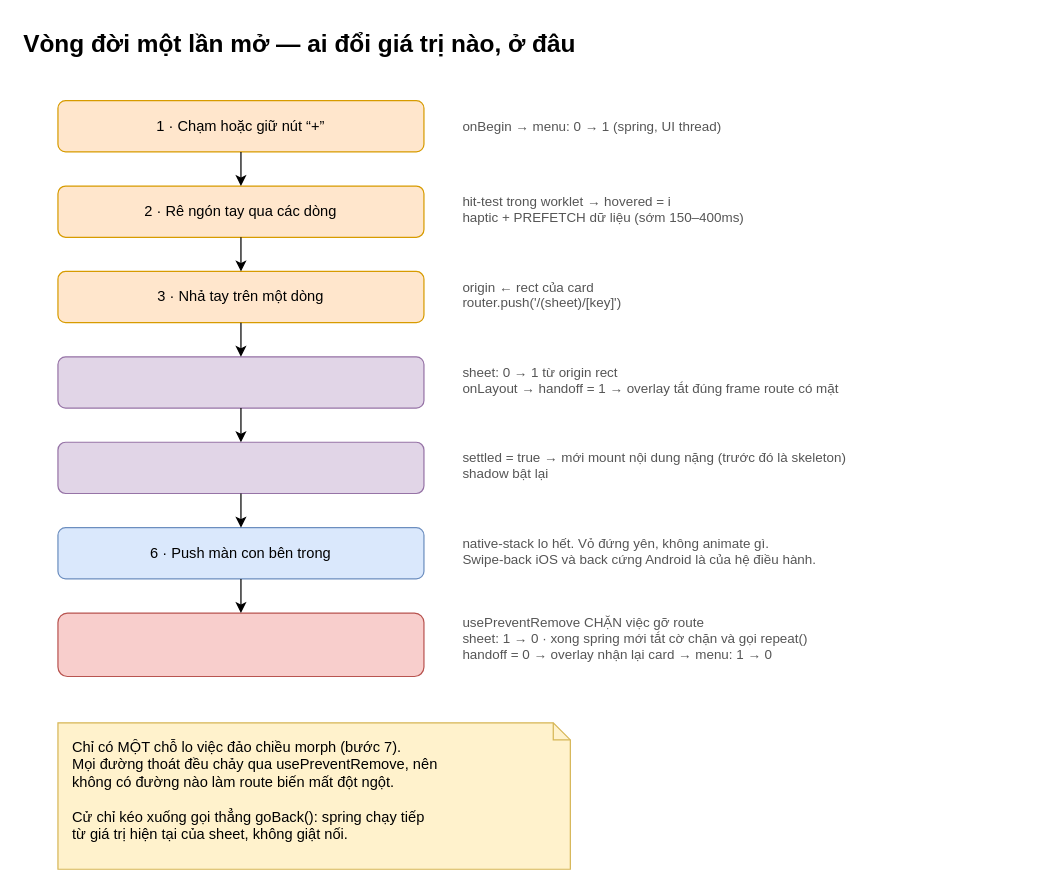
The diagram is 1054 pixels wide and 891 high, and some of its shapes have lost their labels. Here are the shapes that lost their labels. From the top down, the centre of each, then its label:
At point (240, 382): "4 · Route mount".
At point (240, 467): "5 · Spring kết thúc".
At point (240, 644): "7 · Thoát: ×, back cứng, router.back(), kéo xuống".
